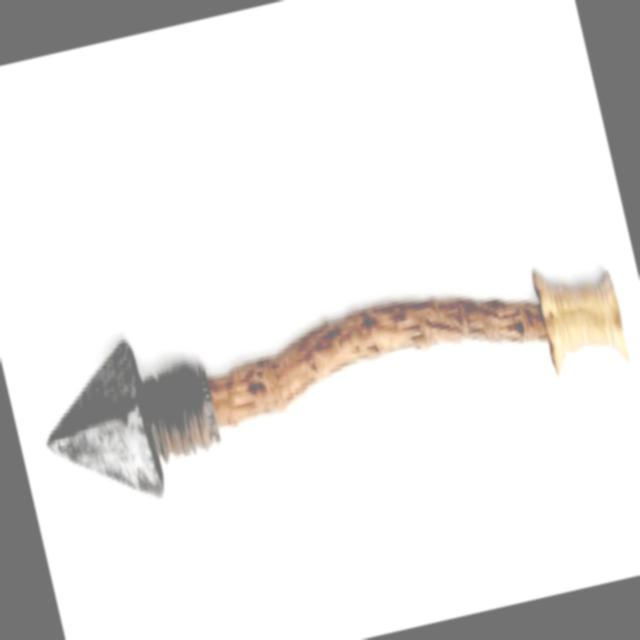spear: (14, 191, 640, 542)
